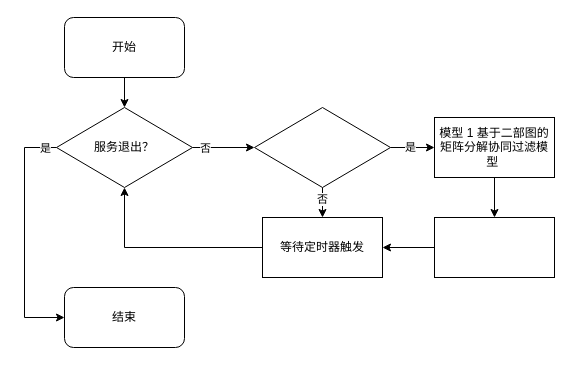
Image size: 572x365. Some labels were removed from this diagram. The centre of each missing label's shape, as x and y in pixels:
"有新数据？" belongs at point (322, 147).
"结果缓存至内存数据库" belongs at point (494, 247).
